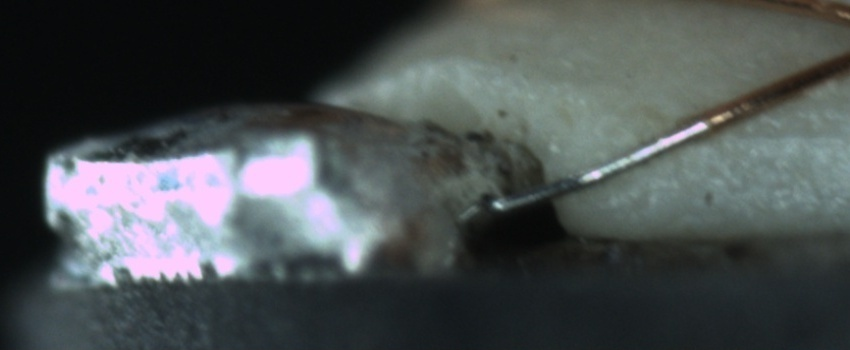DL: (709, 99, 849, 165)
TS: (468, 121, 701, 213)
